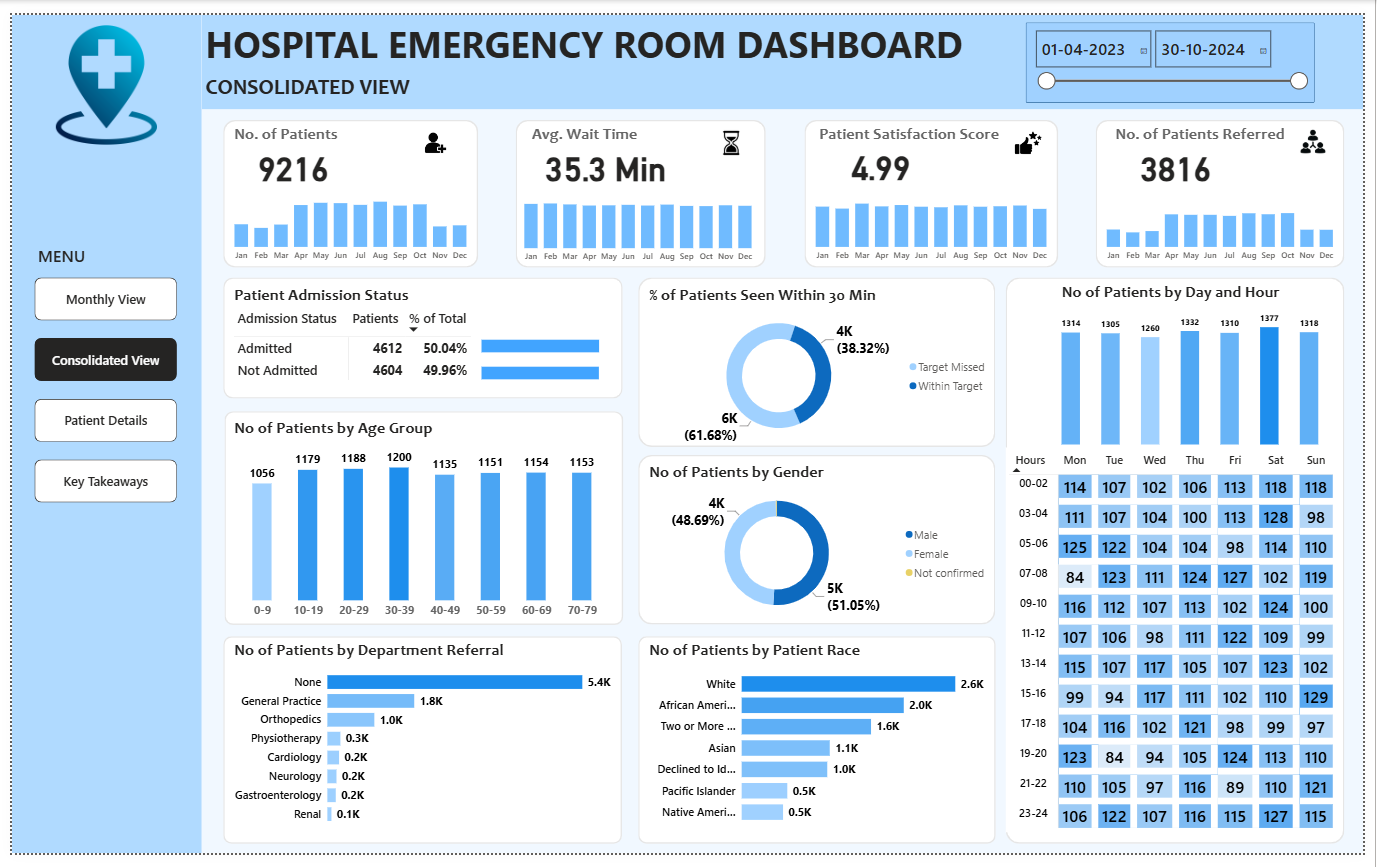

The dashboard page shown, as its layout file describes it:
{"tool":"powerbi","page":{"name":"Consolidated View","canvas":[1983,1230],"ordinal":1},"visuals":[{"type":"shape","box":[0,0,278.2,1230.9],"z":0},{"type":"shape","box":[278.2,0,1705.5,138.2],"z":1000},{"type":"textbox","box":[278.9,0,1252.4,94.2],"z":2000},{"type":"textbox","box":[278.9,80.7,326.6,56.9],"z":3000},{"type":"slicer","fields":{"Values":["Date Table.Date"]},"box":[1487.9,11,423.8,117.4],"z":4000},{"type":"shape","box":[310,154.1,374.3,216.5],"z":5000},{"type":"card","fields":{"Values":["Hospital ER_Data.No of Patients"]},"box":[350.4,192.6,124.8,56.9],"z":6000},{"type":"textbox","box":[321.5,154.6,181.2,55.1],"z":7000},{"type":"columnChart","fields":{"Category":["Date Table.Month"],"Y":["Hospital ER_Data.No of Patients"]},"box":[310,229.3,374.3,141.3],"z":8000},{"type":"shape","box":[740,154.1,366.9,216.5],"z":9000},{"type":"card","fields":{"Values":["Hospital ER_Data.Avg Wait Time"]},"box":[770.5,192.6,201.8,56.9],"z":10000},{"type":"textbox","box":[757.7,154.1,181.6,55],"z":11000},{"type":"shape","box":[1162.5,154.1,372.4,216.5],"z":12000},{"type":"shape","box":[1590.6,154.1,365.1,216.5],"z":13000},{"type":"card","fields":{"Values":["Hospital ER_Data.Avg Pat. Satn. score"]},"box":[1214.5,190.8,121.1,56.9],"z":14000},{"type":"textbox","box":[1180,154.5,278.2,54.5],"z":15000},{"type":"columnChart","fields":{"Category":["Date Table.Month"],"Y":["Hospital ER_Data.Avg Patient Satisfaction score"]},"box":[1163.1,255,372.4,115.6],"z":16000},{"type":"card","fields":{"Values":["Date Table.No of Patients Referred"]},"box":[1647.5,192.6,121.1,56.9],"z":17000},{"type":"textbox","box":[1614.5,154.1,341.2,55],"z":18000},{"type":"shape","box":[310.9,385.5,586.2,177.6],"z":19000},{"type":"columnChart","fields":{"Category":["Date Table.Month"],"Y":["Date Table.No of Patients Referred"]},"box":[1590.6,255,365.1,115.6],"z":20000},{"type":"columnChart","fields":{"Category":["Date Table.Month"],"Y":["Avg(Hospital ER_Data.Patient Waittime)"]},"box":[735.7,256.8,366.9,115.6],"z":21000},{"type":"pivotTable","title":"Patient Admission Status","fields":{"Rows":["Hospital ER_Data.Admission Status"],"Values":["Hospital ER_Data.No of Patients1","Hospital ER_Data.No of Patients"]},"box":[321.5,394.4,563.1,168.8],"z":22000},{"type":"barChart","fields":{"Y":["Hospital ER_Data.No of Patients"],"Category":["Hospital ER_Data.Admission Status"]},"box":[683.9,444.1,234.5,119],"z":23000},{"type":"shape","box":[311.9,581.6,585.2,313.7],"z":24000},{"type":"clusteredColumnChart","fields":{"Category":["Hospital ER_Data.Age Group"],"Y":["Hospital ER_Data.No of Patients"]},"box":[321.1,590.7,563.2,304.5],"z":25000},{"type":"shape","box":[310,911.8,585.2,304.5],"z":26000},{"type":"clusteredBarChart","fields":{"Category":["Hospital ER_Data.Department Referral"],"Y":["Hospital ER_Data.No of Patients"]},"box":[321.1,915.5,563.2,284.4],"z":27000},{"type":"shape","box":[918.4,385.5,524.1,248.7],"z":28000},{"type":"donutChart","title":"% of Patients Seen Within 30 Min","fields":{"Y":["Hospital ER_Data.No of Patients"],"Category":["Hospital ER_Data.Waittime Status"]},"box":[930.1,394.4,511.9,240.3],"z":29000},{"type":"shape","box":[918.4,646.6,524.1,248.7],"z":30000},{"type":"donutChart","title":"No of Patients by Gender","fields":{"Y":["Hospital ER_Data.No of Patients"],"Category":["Hospital ER_Data.Patient Gender"]},"box":[930.9,655.5,511.6,239.8],"z":31000},{"type":"shape","box":[919.1,911.8,524.7,304.5],"z":32000},{"type":"clusteredBarChart","fields":{"Y":["Hospital ER_Data.No of Patients"],"Category":["Hospital ER_Data.Patient Race"]},"box":[930.1,915.5,511.9,284.4],"z":33000},{"type":"shape","box":[1458.5,385.3,497.2,831.1],"z":34000},{"type":"pivotTable","fields":{"Rows":["Hospital ER_Data.Waittime Interval"],"Columns":["Date Table.Day Name"],"Values":["Hospital ER_Data.No of Patients"]},"box":[1458.5,634.8,489.8,565.1],"z":35000},{"type":"columnChart","title":"No of Patients by Day and Hour","fields":{"Category":["Date Table.Day Name"],"Y":["Hospital ER_Data.No of Patients"]},"box":[1535.6,390.8,388.9,245.8],"z":36000},{"type":"image","box":[20.2,14.7,236.7,176.1],"z":37000},{"type":"image","box":[588.3,155,63.3,66.7],"z":38000},{"type":"image","box":[1032.7,167.3,45.5,41.8],"z":39000},{"type":"image","box":[1455,155,65,66.7],"z":40000},{"type":"image","box":[1870,153.3,78.3,66.7],"z":41000},{"type":"pageNavigator","box":[32.7,385.5,209.1,330.9],"z":42000},{"type":"textbox","box":[32.7,332.7,87.3,52.7],"z":43000}]}

Visuals, with their boxes in screenshot pixels (x1, y1, x2, y2), scaled from the page's 1983x1230 canvas onto the 1377x867 screenshot:
shape: l=0, t=0, r=193, b=866
shape: l=193, t=0, r=1376, b=97
textbox: l=194, t=0, r=1063, b=66
textbox: l=194, t=57, r=420, b=97
slicer - Date Table.Date: l=1033, t=8, r=1327, b=91
shape: l=215, t=109, r=475, b=261
card - Hospital ER_Data.No of Patients: l=243, t=136, r=330, b=176
textbox: l=223, t=109, r=349, b=148
columnChart - Date Table.Month x Hospital ER_Data.No of Patients: l=215, t=162, r=475, b=261
shape: l=514, t=109, r=769, b=261
card - Hospital ER_Data.Avg Wait Time: l=535, t=136, r=675, b=176
textbox: l=526, t=109, r=652, b=147
shape: l=807, t=109, r=1066, b=261
shape: l=1105, t=109, r=1358, b=261
card - Hospital ER_Data.Avg Pat. Satn. score: l=843, t=134, r=927, b=175
textbox: l=819, t=109, r=1013, b=147
columnChart - Date Table.Month x Hospital ER_Data.Avg Patient Satisfaction score: l=808, t=180, r=1066, b=261
card - Date Table.No of Patients Referred: l=1144, t=136, r=1228, b=176
textbox: l=1121, t=109, r=1358, b=147
shape: l=216, t=272, r=623, b=397
columnChart - Date Table.Month x Date Table.No of Patients Referred: l=1105, t=180, r=1358, b=261
columnChart - Date Table.Month x Avg(Hospital ER_Data.Patient Waittime): l=511, t=181, r=766, b=262
"Patient Admission Status" pivotTable: l=223, t=278, r=614, b=397
barChart - Hospital ER_Data.No of Patients x Hospital ER_Data.Admission Status: l=475, t=313, r=638, b=397
shape: l=217, t=410, r=623, b=631
clusteredColumnChart - Hospital ER_Data.Age Group x Hospital ER_Data.No of Patients: l=223, t=416, r=614, b=631
shape: l=215, t=643, r=622, b=857
clusteredBarChart - Hospital ER_Data.Department Referral x Hospital ER_Data.No of Patients: l=223, t=645, r=614, b=846
shape: l=638, t=272, r=1002, b=447
"% of Patients Seen Within 30 Min" donutChart: l=646, t=278, r=1001, b=447
shape: l=638, t=456, r=1002, b=631
"No of Patients by Gender" donutChart: l=646, t=462, r=1002, b=631
shape: l=638, t=643, r=1003, b=857
clusteredBarChart - Hospital ER_Data.No of Patients x Hospital ER_Data.Patient Race: l=646, t=645, r=1001, b=846
shape: l=1013, t=272, r=1358, b=857
pivotTable - Hospital ER_Data.Waittime Interval x Date Table.Day Name: l=1013, t=447, r=1353, b=846
"No of Patients by Day and Hour" columnChart: l=1066, t=275, r=1336, b=449
image: l=14, t=10, r=178, b=134
image: l=409, t=109, r=452, b=156
image: l=717, t=118, r=749, b=147
image: l=1010, t=109, r=1055, b=156
image: l=1299, t=108, r=1353, b=155
pageNavigator: l=23, t=272, r=168, b=505
textbox: l=23, t=235, r=83, b=272
